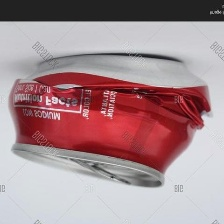can: (4, 47, 217, 196)
